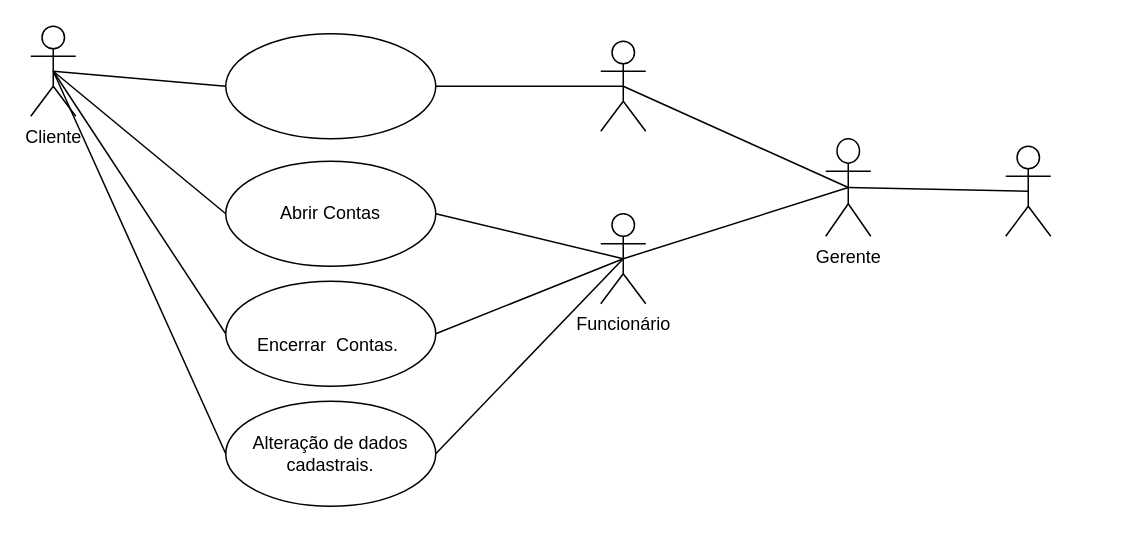
The diagram is 1133 pixels wide and 533 high, and some of its shapes have lost their labels. Each missing label, with the centre of its shape:
Caixa Electrónico: pixel 622 85
Deposito e Sacar Valores, Emissão de Saldo e Extrato: pixel 330 85
Dono e Accionistas: pixel 1027 190
